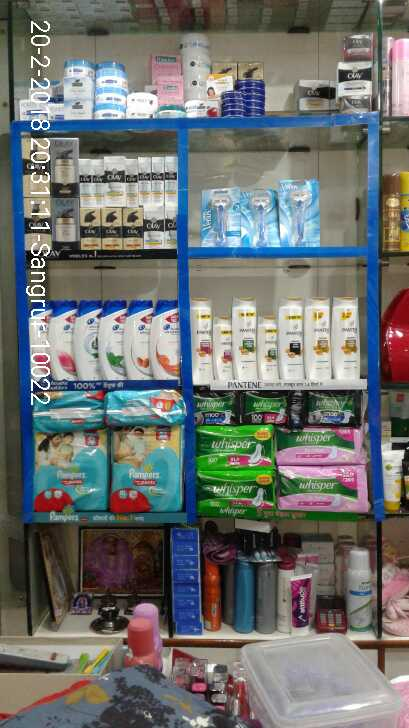venus: (276, 183, 324, 252), (203, 194, 244, 241), (246, 194, 276, 251)
